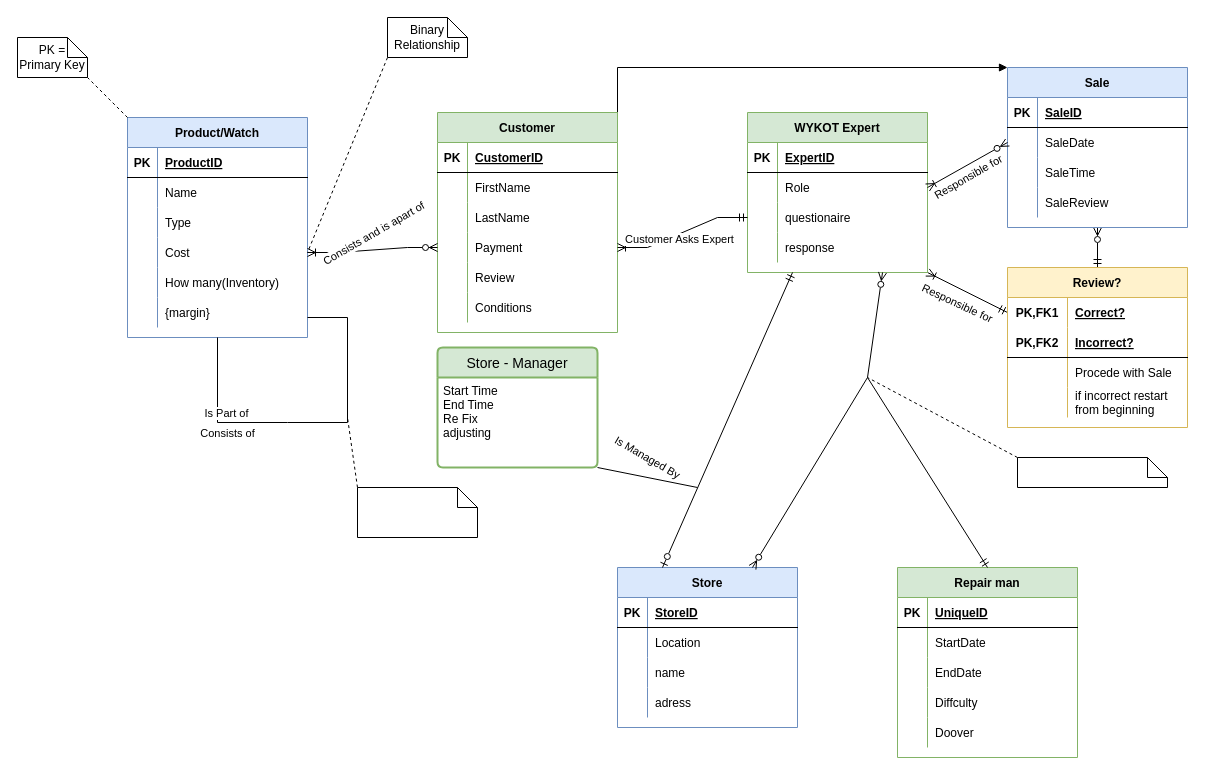
Image size: 1205x775. Some labels were removed from this diagram. The centre of each missing label's shape, as x and y in pixels:
"Ternary relationship" goes at (1092,472).
"Unary Relationship" goes at (417,512).
